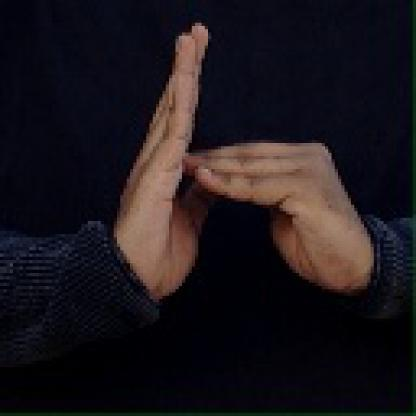Z: (108, 11, 366, 326)
